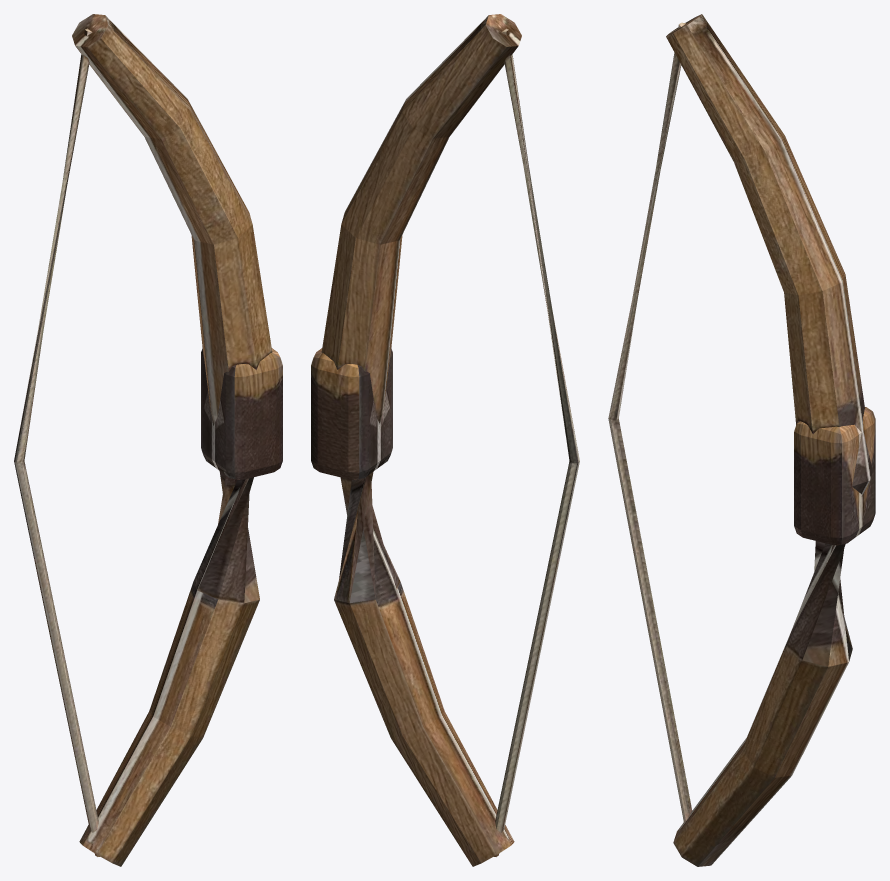
File: bow.glb
3 renders of one model, left to right at view 1: azimuth 30°, elevation 25°; view 2: azimuth 150°, elevation 25°; view 3: azimuth 330°, elevation 25°, orthographic.
Parts seen in each view (by area): view 1: Curved wooden bow, Bow grip, Bowstring; view 2: Curved wooden bow, Bow grip, Bowstring; view 3: Curved wooden bow, Bow grip, Bowstring.
Part boxes in pixels (left/top/right/bottom): Curved wooden bow: left=72, top=14, right=272, bottom=866; Bow grip: left=201, top=348, right=282, bottom=479; Bowstring: left=14, top=28, right=99, bottom=856; Curved wooden bow: left=321, top=14, right=521, bottom=866; Bow grip: left=311, top=348, right=392, bottom=479; Bowstring: left=494, top=28, right=579, bottom=856; Curved wooden bow: left=666, top=14, right=872, bottom=866; Bow grip: left=794, top=407, right=875, bottom=545; Bowstring: left=608, top=22, right=692, bottom=822.
Size of the model in its own units: 0.5178 by 1.61 by 0.13.
Materials: 4 (4 with a texture image).
